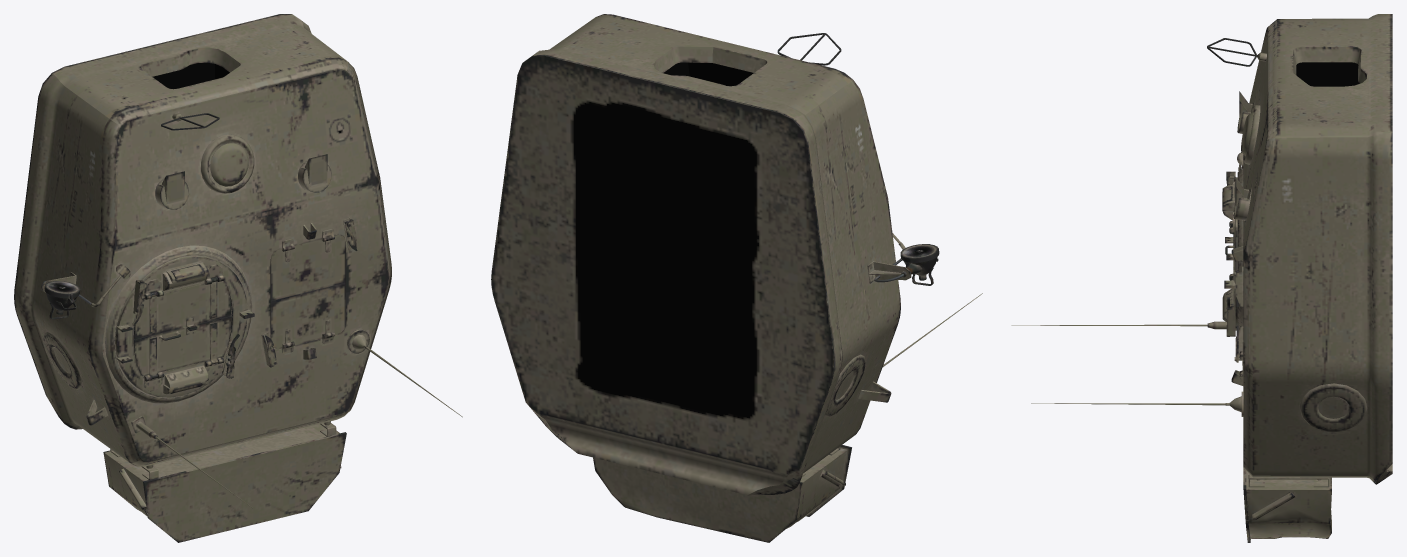
The model's file is Turret_02.glb.
3 renders of one model, left to right at view 1: azimuth 30°, elevation 25°; view 2: azimuth 150°, elevation 25°; view 3: azimuth 270°, elevation 25°, orthographic. The views are drawn at different scales.
Parts seen in each view (by area): view 1: set_0_group_0; view 2: set_0_group_0; view 3: set_0_group_0.
Boxes of the visible parts, x1,y1,x2,y2 form: set_0_group_0: (14,14,462,542); set_0_group_0: (491,14,982,542); set_0_group_0: (1011,14,1392,542).
Size of the model in its own units: 2.07 by 2.48 by 1.94.
Materials: 1 (1 with a texture image).
